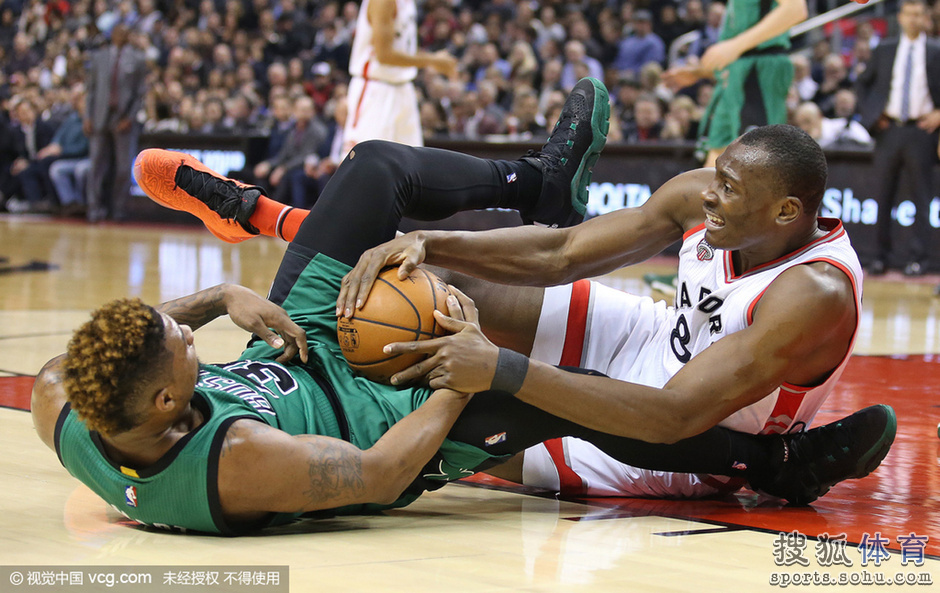10+: (1, 2, 940, 540)
down: (17, 70, 891, 534), (127, 112, 879, 508)
